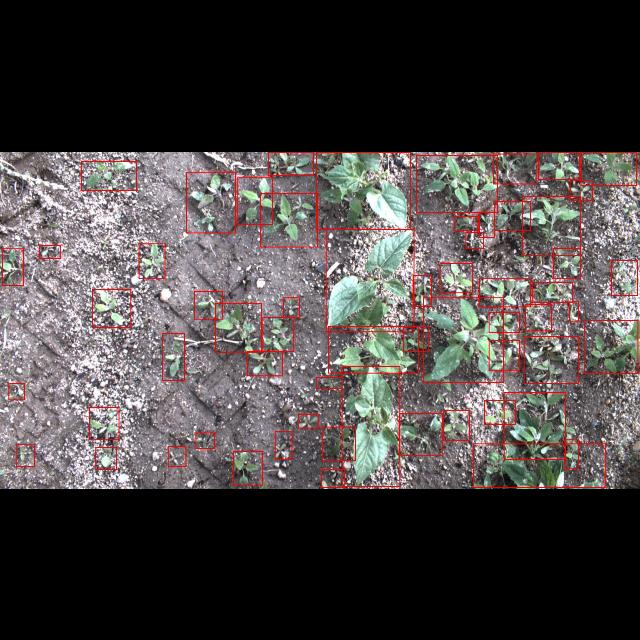crop: (326, 228, 414, 332), (316, 152, 410, 228), (342, 366, 400, 486), (423, 296, 503, 382), (473, 443, 605, 487), (328, 326, 418, 372), (504, 392, 566, 458), (565, 439, 579, 468)
weed: (417, 154, 498, 212), (522, 195, 580, 255), (260, 192, 318, 246), (187, 172, 236, 232), (584, 319, 638, 373), (524, 336, 578, 382), (215, 303, 261, 352), (400, 413, 442, 455), (582, 152, 636, 184), (238, 176, 272, 224), (82, 160, 136, 190), (93, 289, 131, 327), (480, 278, 530, 306), (493, 153, 537, 183), (322, 426, 356, 460), (262, 316, 294, 352), (538, 152, 580, 178), (494, 200, 530, 230), (162, 332, 184, 380), (268, 152, 314, 174), (89, 407, 119, 439), (440, 262, 472, 292), (488, 340, 520, 370), (234, 451, 262, 485), (139, 242, 165, 278), (248, 350, 282, 376), (612, 260, 638, 294), (533, 282, 573, 302), (2, 248, 24, 284), (194, 290, 222, 318), (444, 410, 470, 440), (554, 248, 580, 278), (484, 400, 516, 424), (525, 304, 551, 330), (488, 312, 520, 332), (404, 326, 428, 352), (413, 274, 431, 306), (274, 431, 292, 459), (96, 447, 116, 469), (570, 179, 592, 199), (322, 469, 344, 487), (16, 444, 34, 466), (168, 446, 186, 466), (454, 215, 478, 229), (480, 212, 494, 236), (283, 297, 299, 317), (9, 382, 25, 400), (466, 232, 484, 248), (196, 432, 214, 448), (316, 377, 342, 388), (39, 245, 61, 258), (298, 414, 318, 428), (570, 301, 578, 321)
